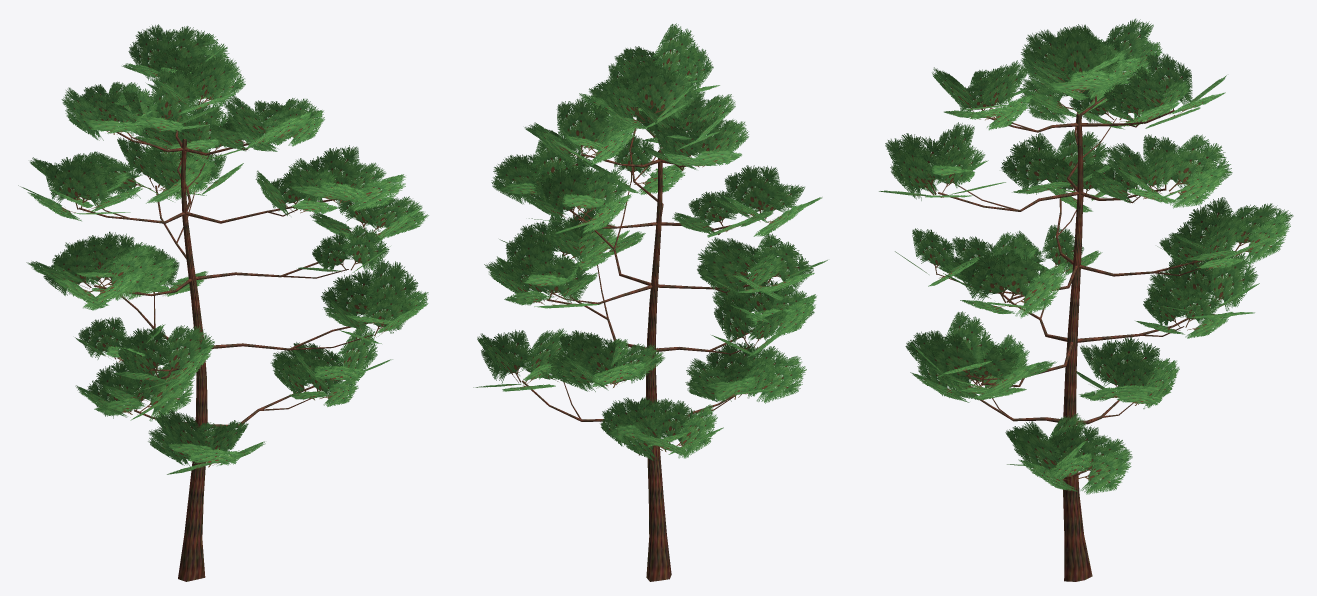
The model's file is pine_dalat_young.glb.
The picture shows the model from 3 angles, left to right: view 1: azimuth 30°, elevation 25°; view 2: azimuth 150°, elevation 25°; view 3: azimuth 270°, elevation 25°; orthographic projection. The views are drawn at different scales.
Parts seen in each view (by area): view 1: pine_dalat_young; view 2: pine_dalat_young; view 3: pine_dalat_young.
Boxes of the visible parts, bbox=[...] form: pine_dalat_young: bbox=[18, 24, 428, 581]; pine_dalat_young: bbox=[473, 23, 827, 581]; pine_dalat_young: bbox=[879, 18, 1293, 581].
Bounding box in the file's own units: 7.98 × 10.44 × 7.7.
2 materials, 2 textured.
